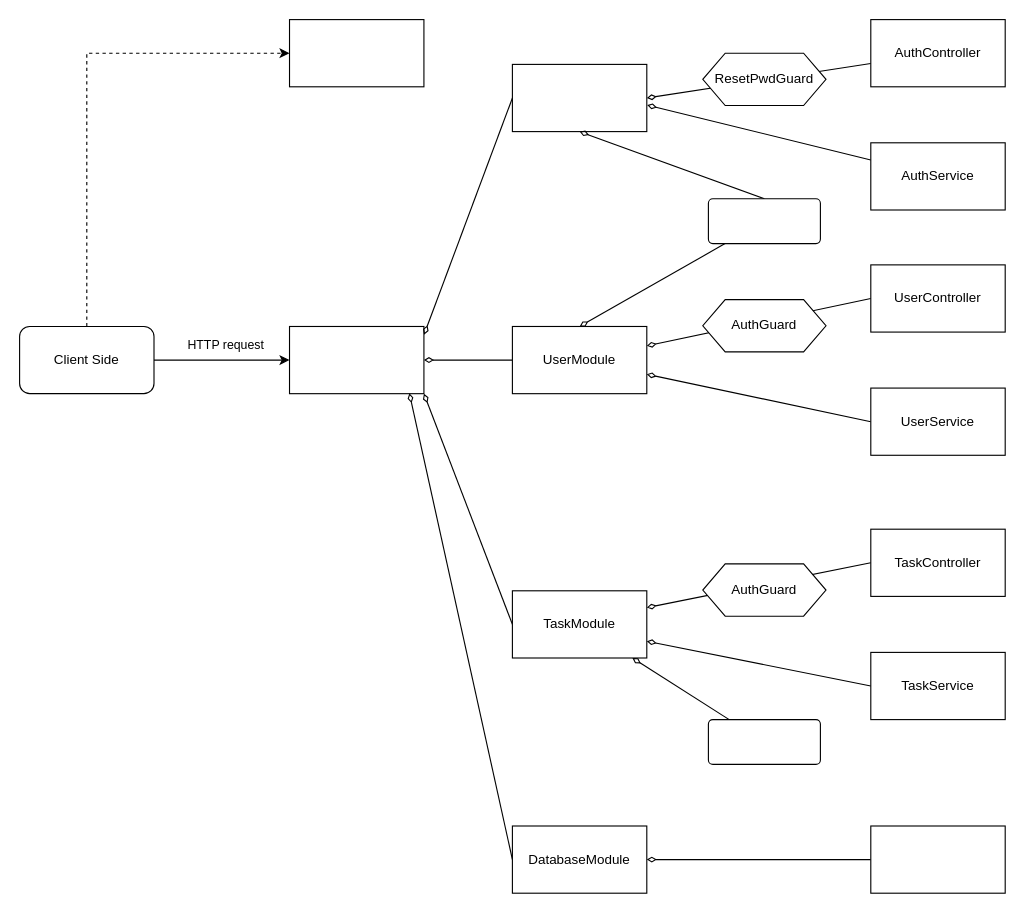
Image size: 1025x913. Some labels were removed from this diagram. The centre of each missing label's shape, as x and y in pixels:
"AppModule (:3000)" goes at (x=356, y=359).
"AuthModule" goes at (x=579, y=97).
"Database provider (TypeORM)" goes at (x=937, y=859).
"TaskEntity" goes at (x=763, y=741).
"UserEntity" goes at (x=763, y=221).
"WebSocketGateway (:8080)" goes at (x=356, y=52).
